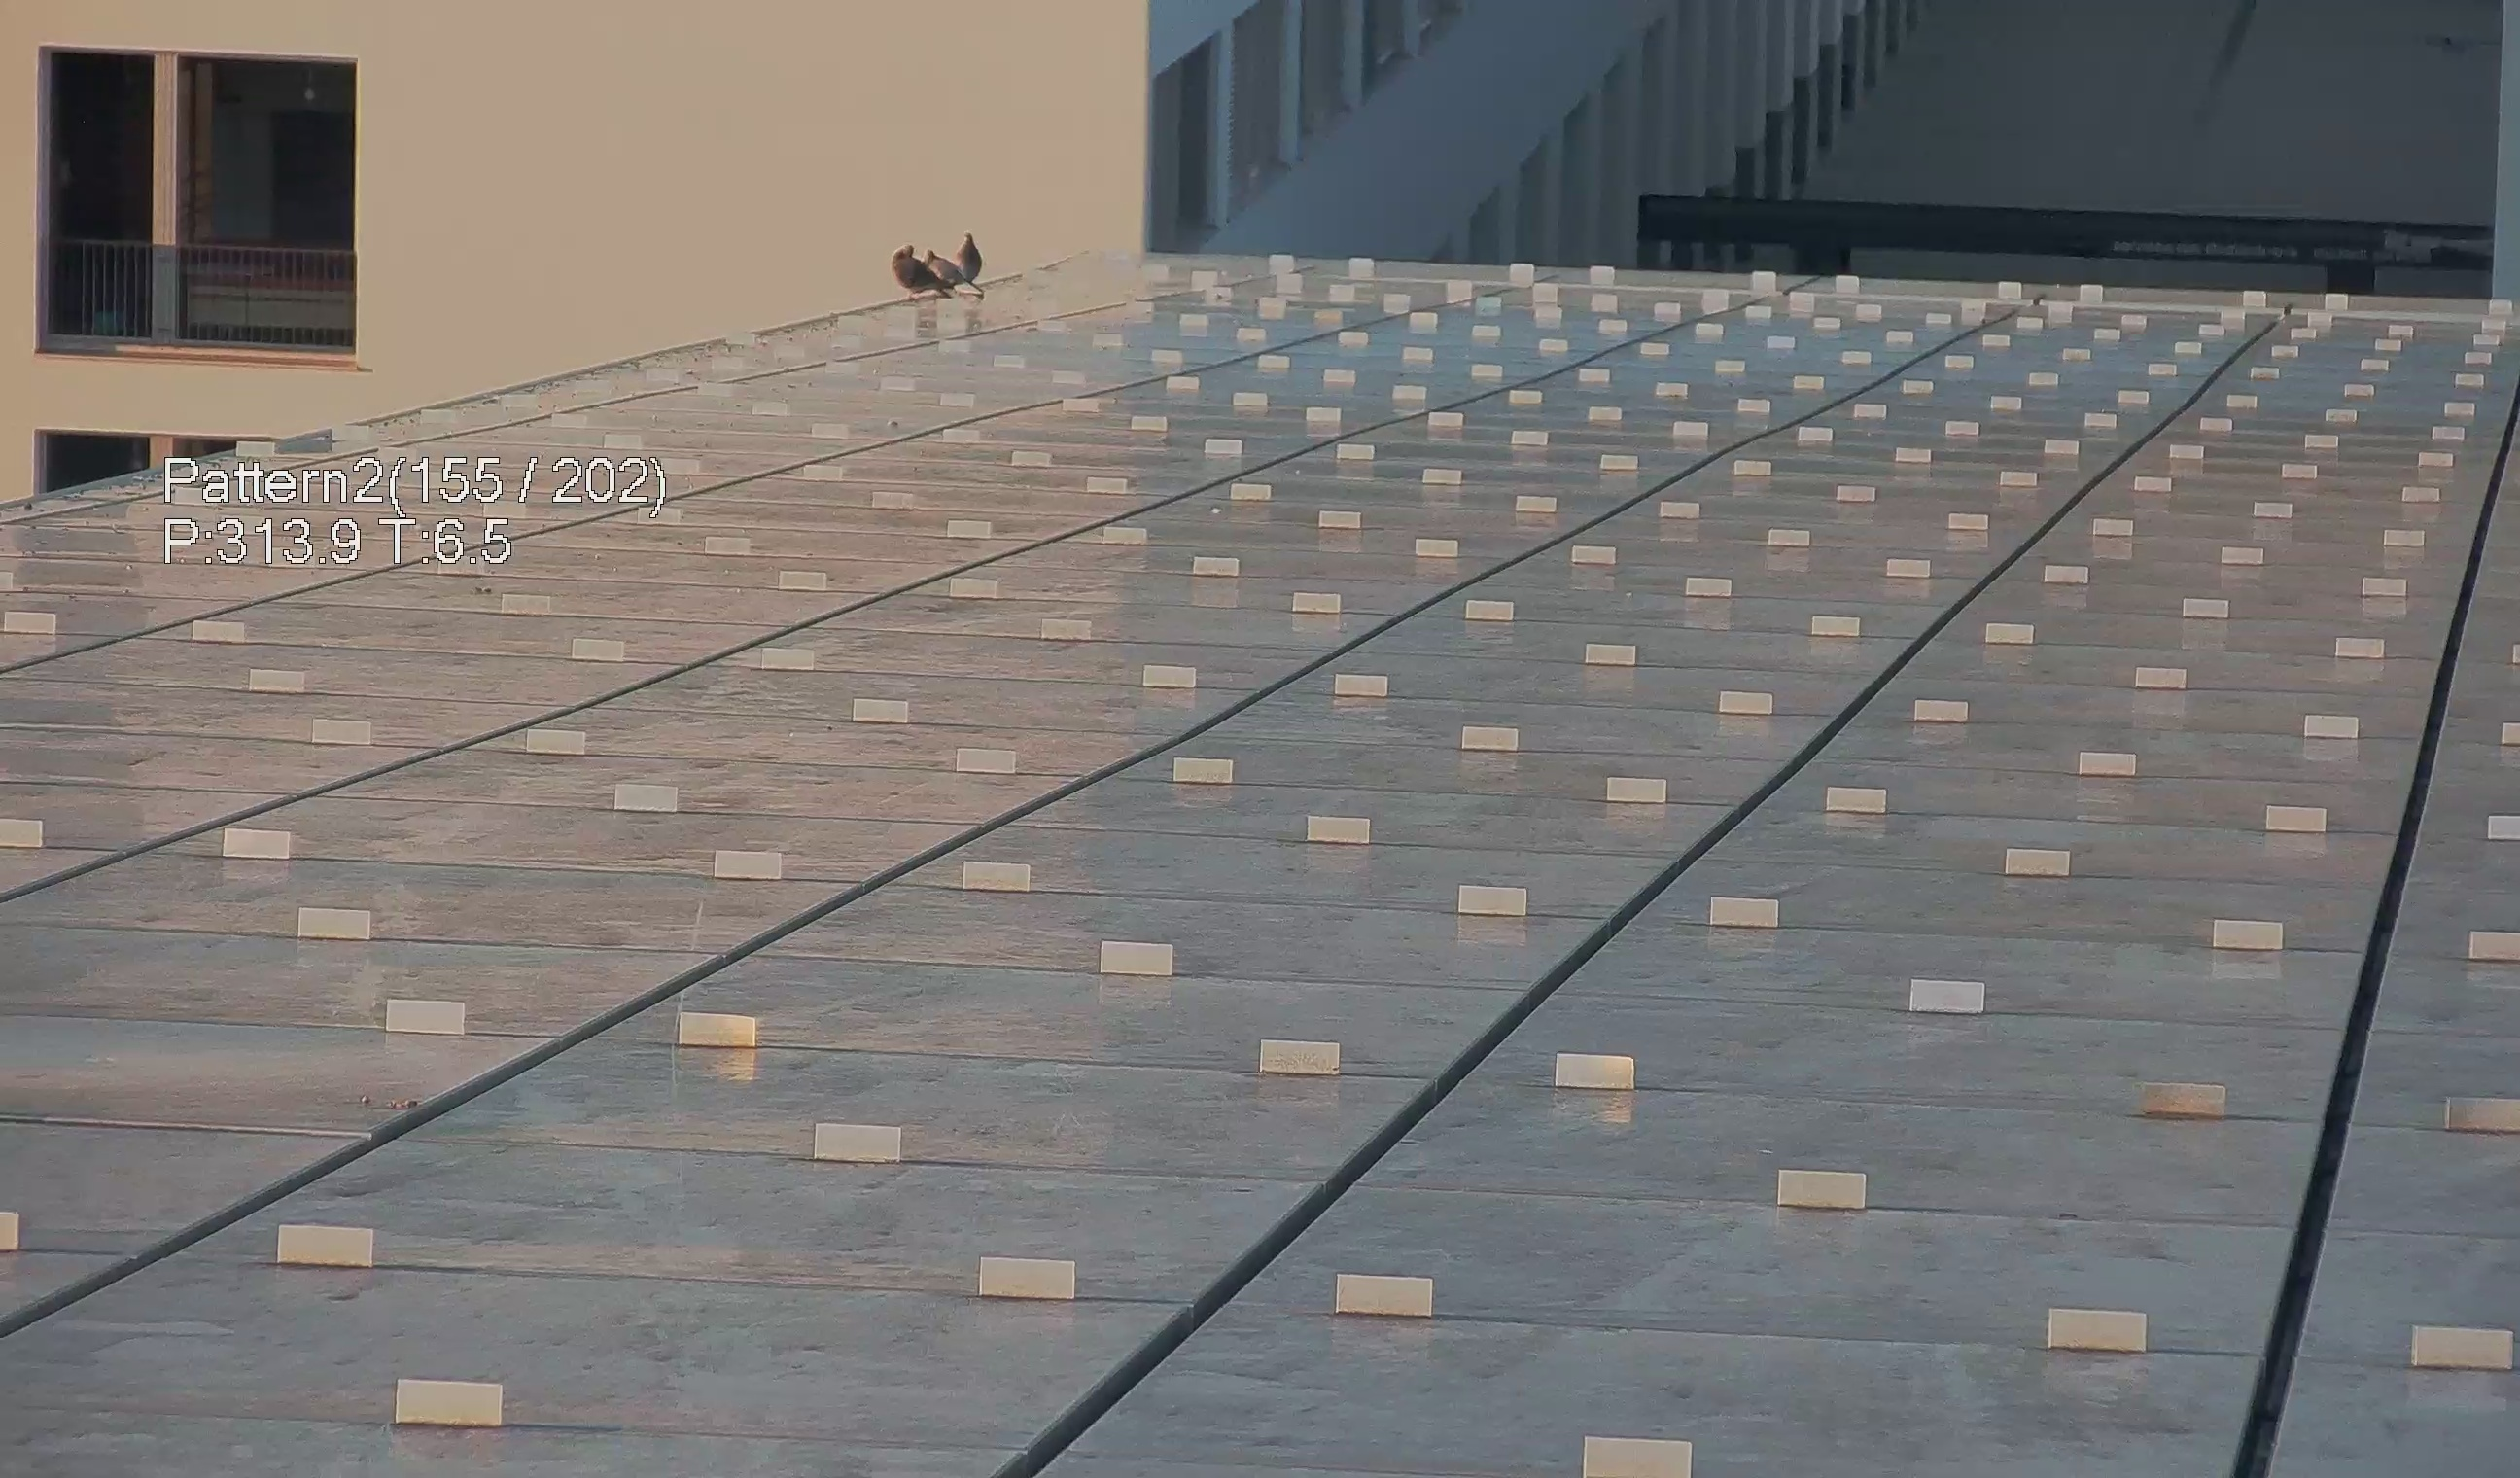Pigeon: (888, 245, 950, 304), (918, 246, 983, 297), (953, 232, 990, 289)
